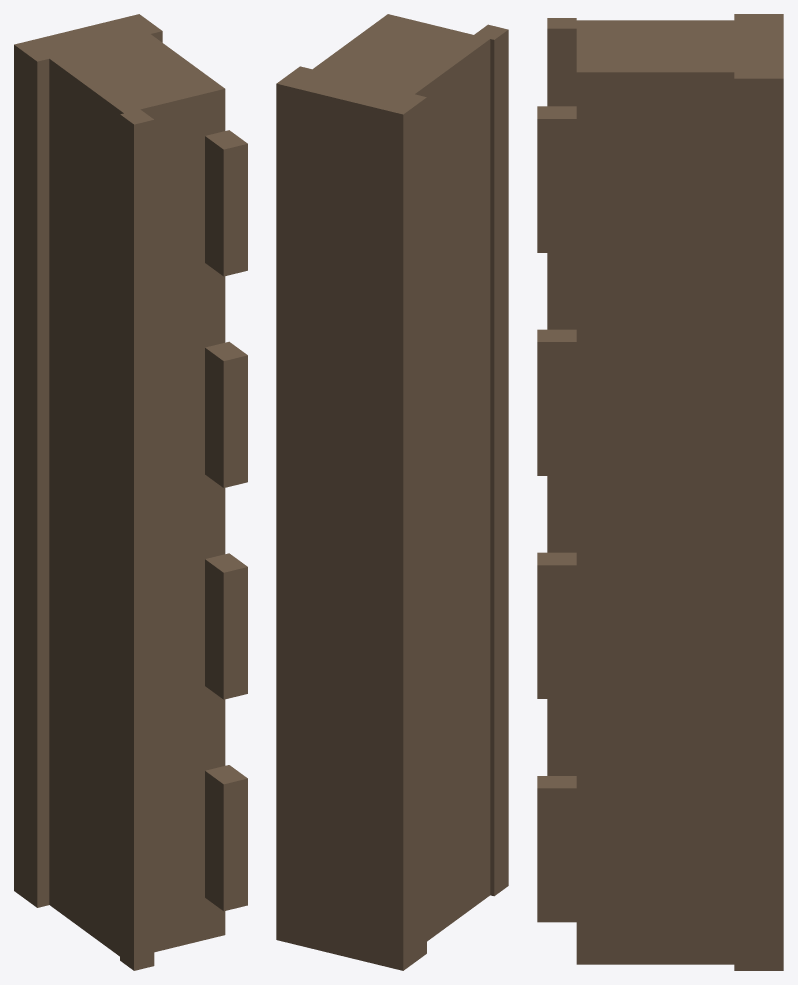
File: SM_Fortress_Wall.obj
The picture shows the model from 3 angles, left to right: view 1: azimuth 30°, elevation 25°; view 2: azimuth 150°, elevation 25°; view 3: azimuth 270°, elevation 25°; orthographic projection. The views are drawn at different scales.
Parts seen in each view (by area): view 1: Mudbrick; view 2: Mudbrick; view 3: Mudbrick.
Boxes of the visible parts, <box> form: Mudbrick: <box>14,14,247,970</box>; Mudbrick: <box>276,14,508,970</box>; Mudbrick: <box>537,14,783,970</box>.
Bounding box in the file's own units: 310 × 2000 × 500.
